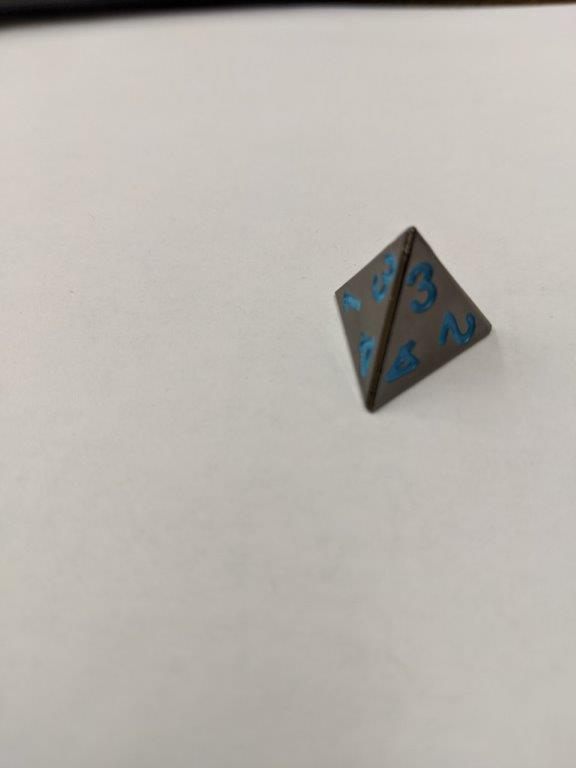d4-3: (333, 224, 495, 418)
